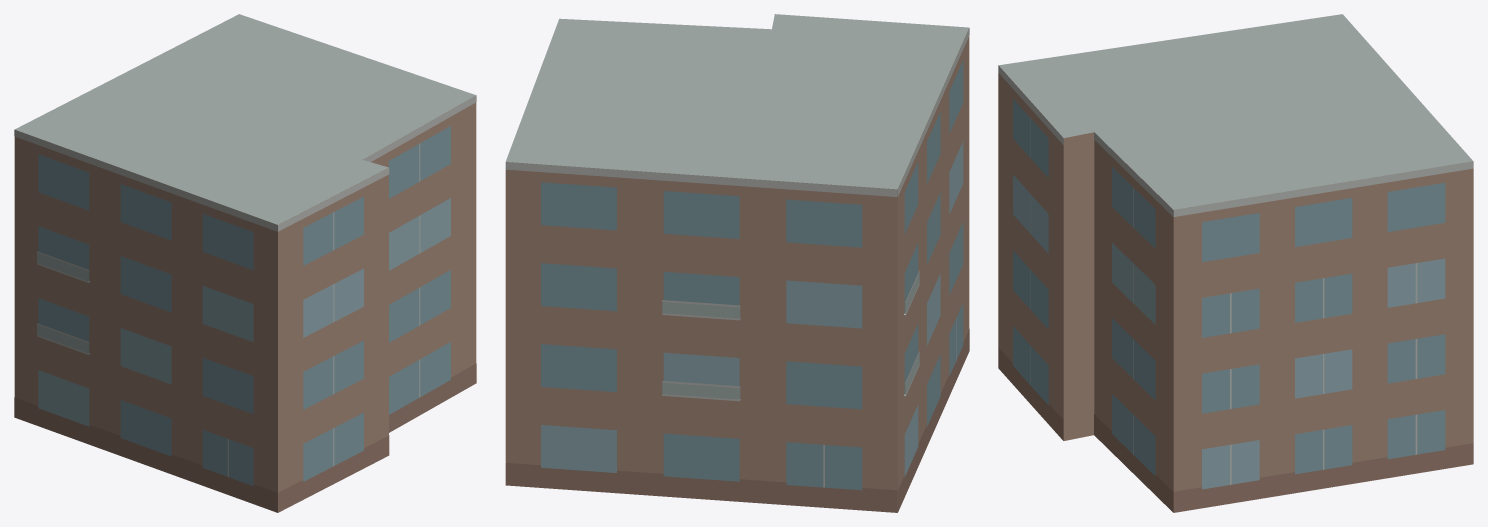
File: survey-upis-32849943.glb
The picture shows the model from 3 angles, left to right: view 1: azimuth 30°, elevation 25°; view 2: azimuth 150°, elevation 25°; view 3: azimuth 270°, elevation 25°; orthographic projection. The views are drawn at different scales.
Parts seen in each view (by area): view 1: survey-upis-32849943.tmp; view 2: survey-upis-32849943.tmp; view 3: survey-upis-32849943.tmp.
Part boxes in pixels (x1,y1,x2,y2): survey-upis-32849943.tmp: [14, 14, 476, 512]; survey-upis-32849943.tmp: [505, 14, 969, 512]; survey-upis-32849943.tmp: [998, 14, 1473, 512].
Size of the model in its own units: 14.16 by 10.2 by 14.51.
